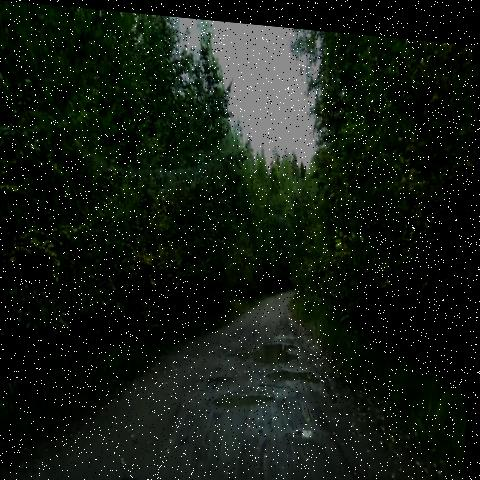pothole: (222, 326, 311, 369), (204, 378, 283, 413), (264, 353, 329, 390), (286, 409, 325, 438), (203, 366, 238, 388)
